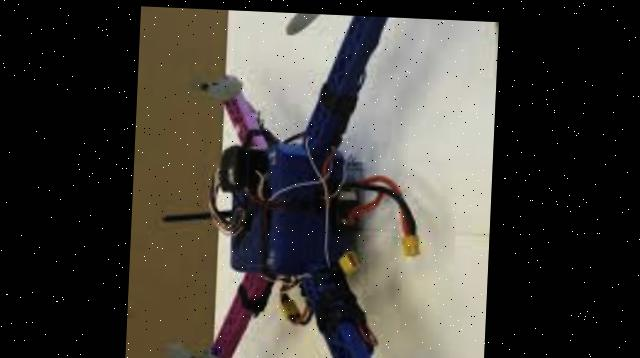drone: (164, 6, 498, 358)
